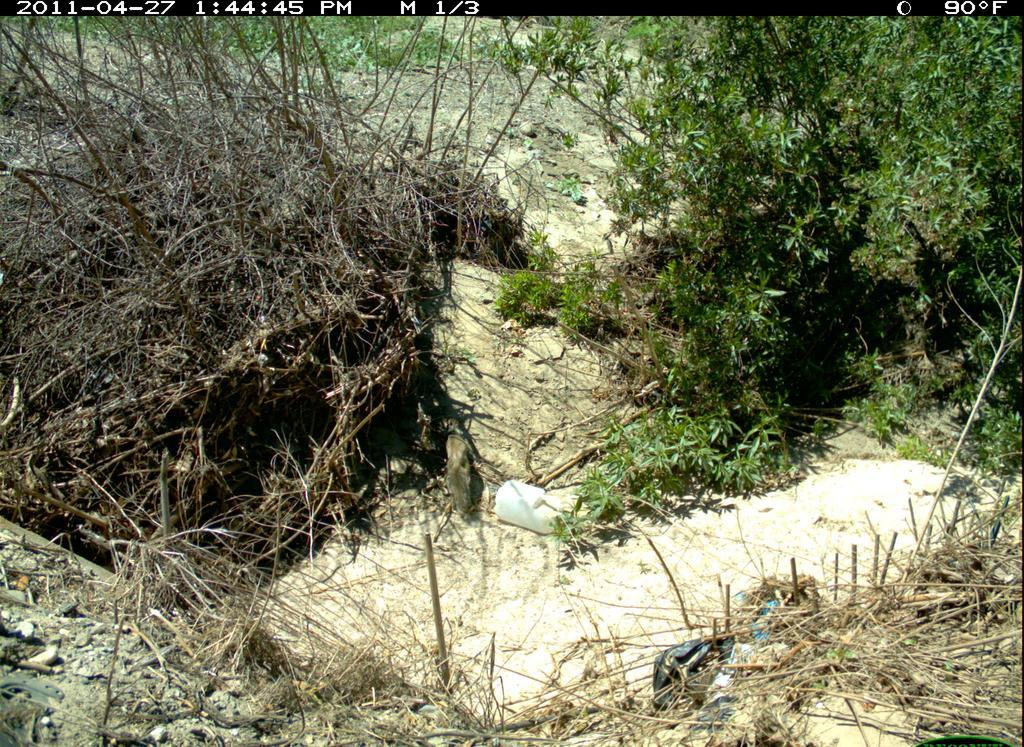squirrel: (427, 391, 525, 596)
